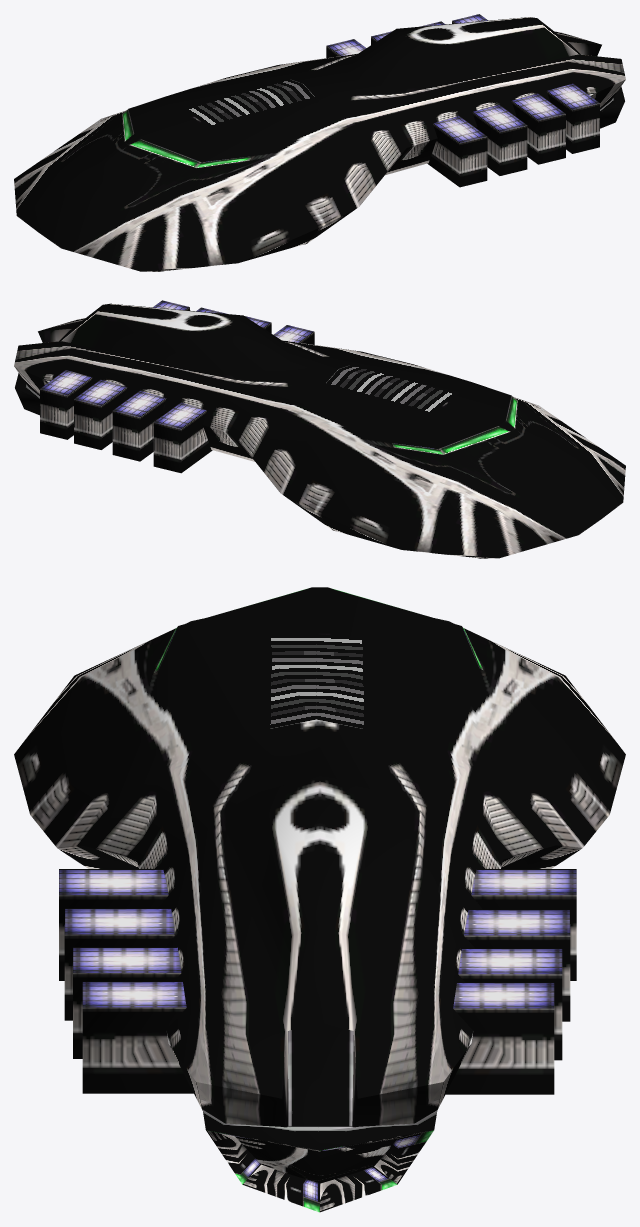
File: jvt01a.obj
The picture shows the model from 3 angles, top to bottom: view 1: azimuth 30°, elevation 25°; view 2: azimuth 150°, elevation 25°; view 3: azimuth 270°, elevation 25°; orthographic projection. The views are drawn at different scales.
Parts seen in each view (by area): view 1: JVT02A0, TOP-DETAIL-020, PANEL020, JVTE01A0; view 2: JVT02A0, TOP-DETAIL-020, PANEL10, JVTE01A0; view 3: JVT02A0, JVTE01A0, TOP-DETAIL-020.
Boxes of the visible parts, box(x1,y1,x2,y2) form: JVT02A0: box(14, 14, 625, 271); TOP-DETAIL-020: box(181, 78, 319, 129); PANEL020: box(146, 227, 321, 271); JVTE01A0: box(570, 44, 624, 128); JVT02A0: box(14, 300, 625, 558); TOP-DETAIL-020: box(323, 363, 460, 416); PANEL10: box(318, 513, 495, 558); JVTE01A0: box(15, 330, 69, 415); JVT02A0: box(14, 587, 625, 1127); JVTE01A0: box(202, 1022, 437, 1212); TOP-DETAIL-020: box(253, 634, 378, 731).
Size of the model in its own units: 151 by 38.57 by 71.13.
17 materials, 5 textured.
